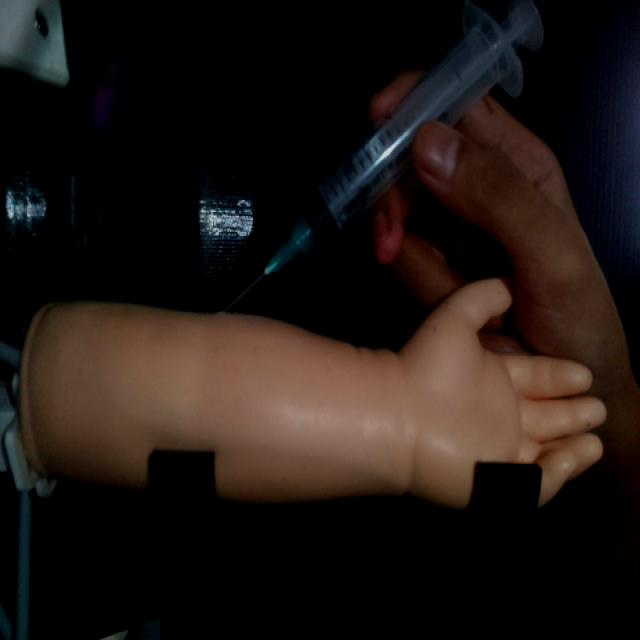Above 30 degrees: (218, 0, 545, 312)
